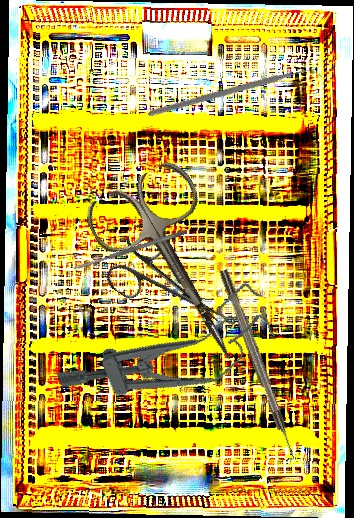Chopper: (147, 6, 323, 185)
Hook Surgical: (218, 268, 299, 461)
Iris Scissors: (79, 155, 277, 388), (99, 220, 243, 349)
Spatula Surgical: (72, 228, 188, 272)
Speculum: (50, 279, 285, 433)
